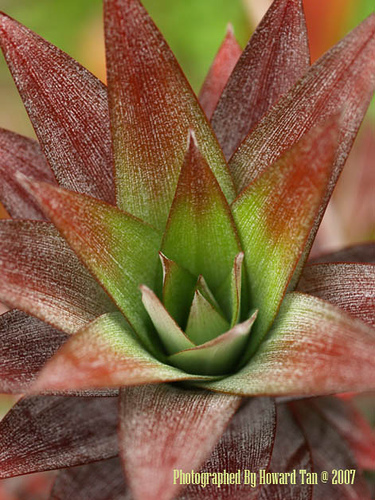pineapple: (0, 1, 372, 495)
